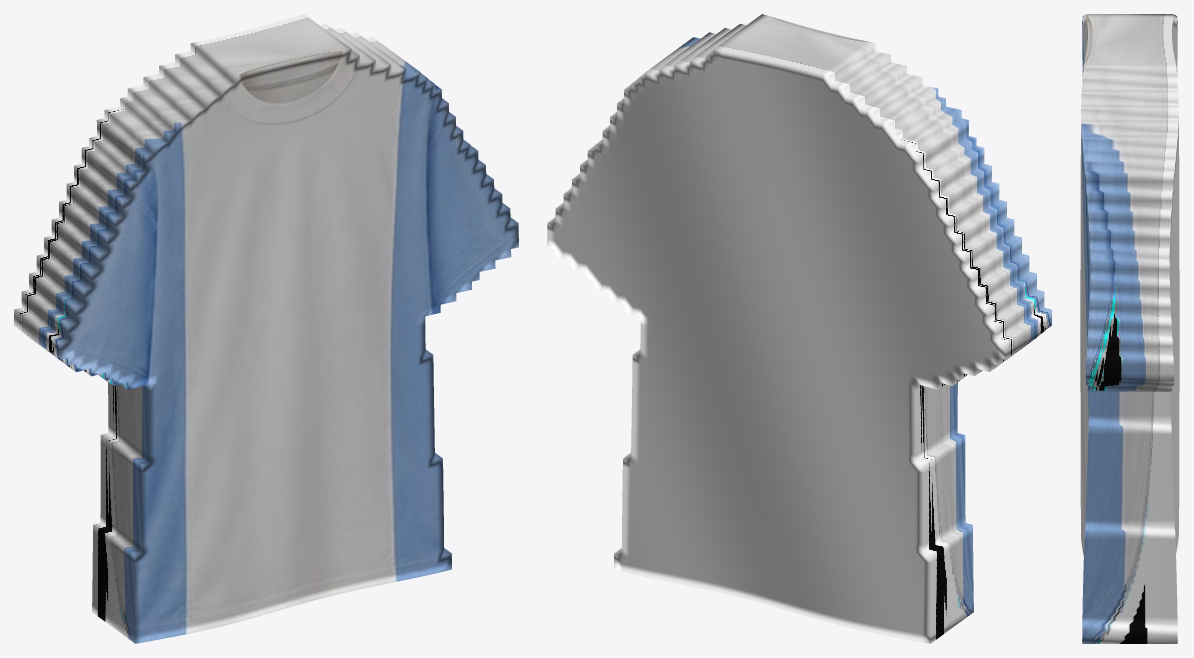
The model's file is rail-09-white-basic.glb.
The picture shows the model from 3 angles, left to right: view 1: azimuth 30°, elevation 25°; view 2: azimuth 150°, elevation 25°; view 3: azimuth 270°, elevation 25°; orthographic projection. The views are drawn at different scales.
Parts seen in each view (by area): view 1: 09-white-basic-cutout; view 2: 09-white-basic-cutout; view 3: 09-white-basic-cutout.
Part boxes in pixels (left/top/right/bottom): 09-white-basic-cutout: left=14, top=14, right=518, bottom=643; 09-white-basic-cutout: left=547, top=14, right=1051, bottom=643; 09-white-basic-cutout: left=1080, top=14, right=1179, bottom=643.
Bounding box in the file's own units: 0.54 × 0.612 × 0.104.
Materials: 1 (1 with a texture image).
